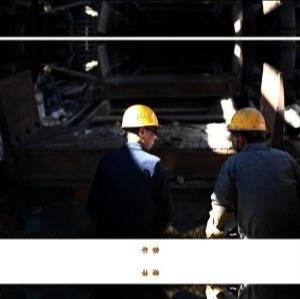helmet: (120, 100, 165, 154), (226, 104, 271, 152)
